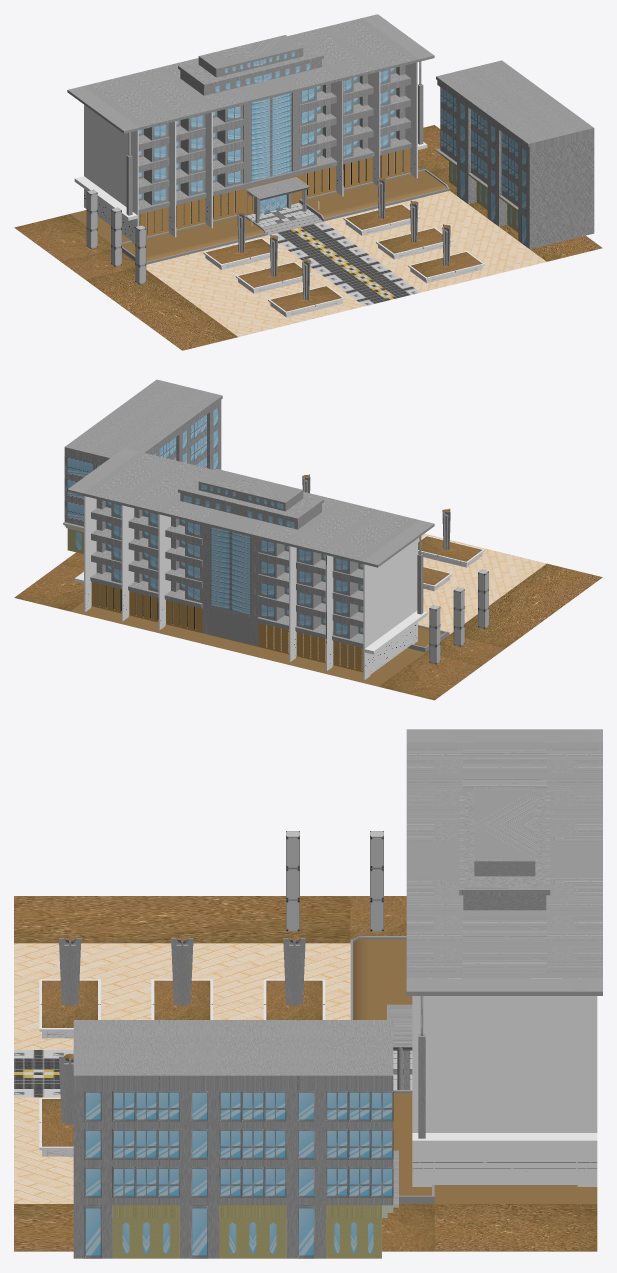
Rendered from Mikihouse_out.fbx.
3 views of the same model, one above another, from view 1: azimuth 30°, elevation 25°; view 2: azimuth 150°, elevation 25°; view 3: azimuth 270°, elevation 25° (orthographic). The views are drawn at different scales.
Parts seen in each view (by area): view 1: body, MikiHouse_out, side, flowerbed, Pillar; view 2: body, MikiHouse_out, side, flowerbed, Pillar; view 3: body, side, MikiHouse_out, flowerbed, Pillar.
Part boxes in pixels (x1,y1,x2,y2): body: (67,14,434,244); MikiHouse_out: (14,125,602,350); side: (436,60,594,248); flowerbed: (203,176,484,317); Pillar: (86,189,146,284); body: (67,448,434,680); MikiHouse_out: (14,533,602,700); side: (63,379,222,554); flowerbed: (302,474,484,591); Pillar: (429,569,488,664); body: (387,729,602,1186); side: (73,1020,398,1258); MikiHouse_out: (14,896,597,1251); flowerbed: (39,935,325,1156); Pillar: (286,831,383,931).
Bounding box in the file's own units: 1530 × 490 × 1050.
